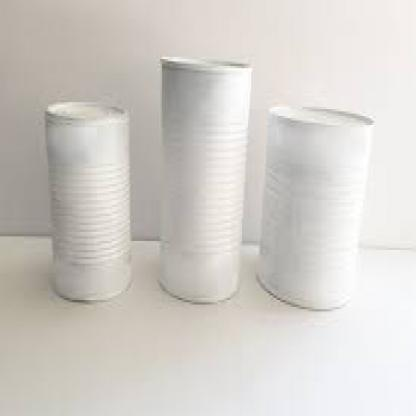Compsot: (254, 102, 372, 316), (157, 52, 251, 305), (44, 100, 130, 305)
